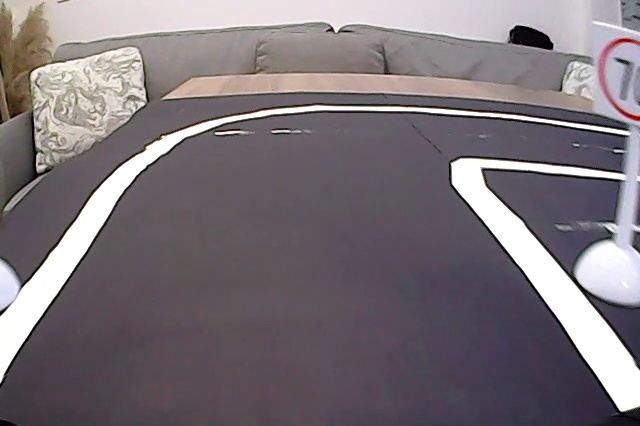speed limit 70: (593, 23, 640, 121)
